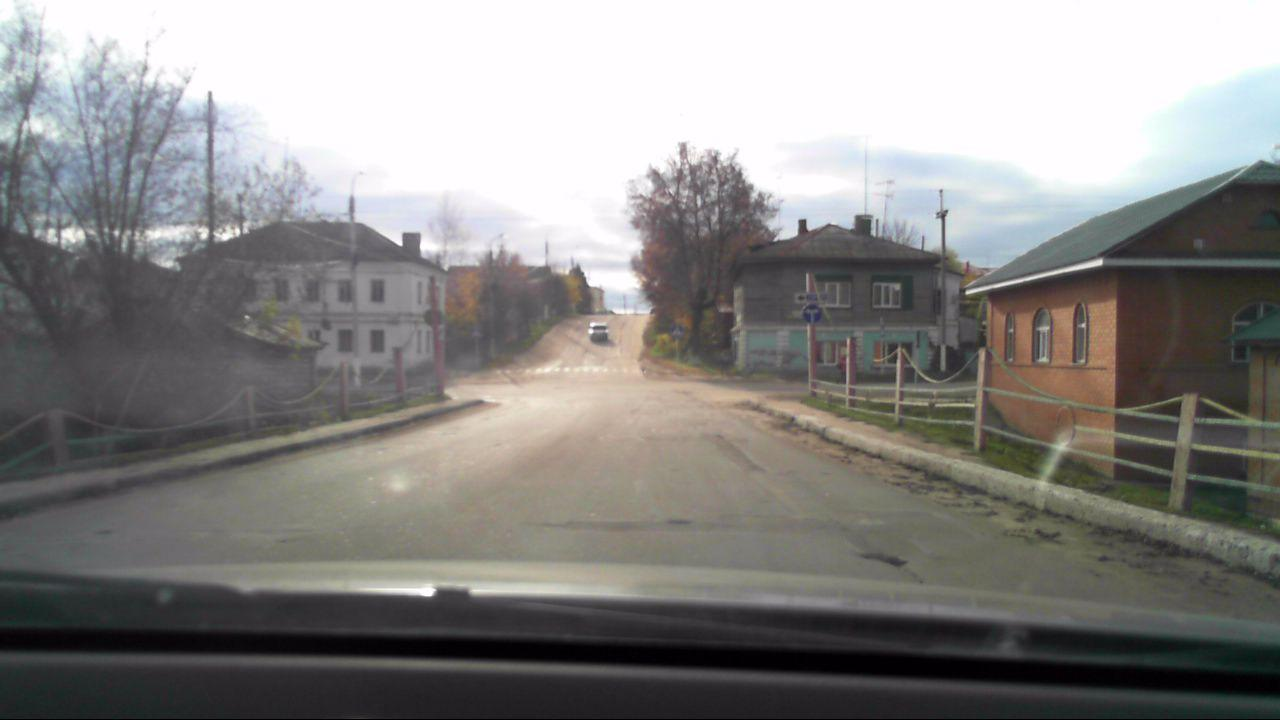4_1_6: (801, 302, 826, 326)
